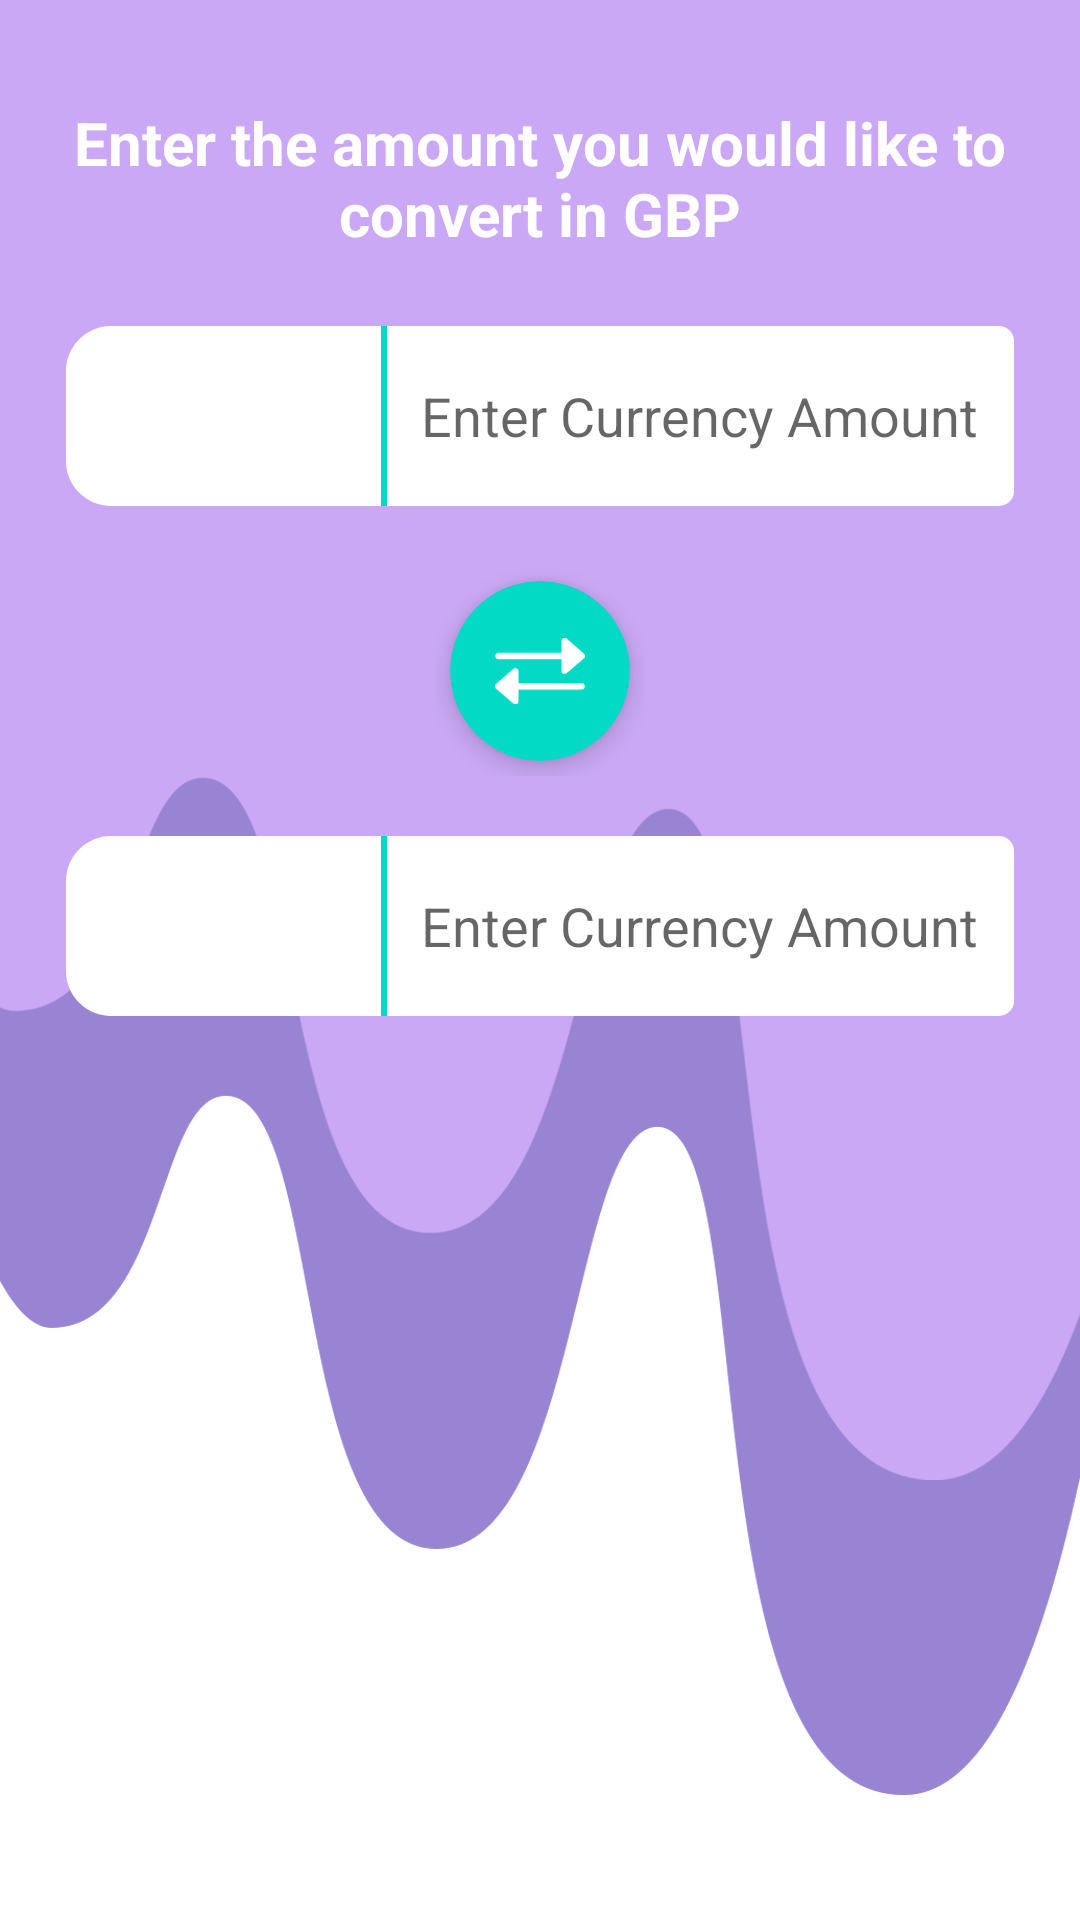

Where to tap for icons on this 1080×1920 app screen, as point (x, y):
arrowssvg: point (540, 671)
